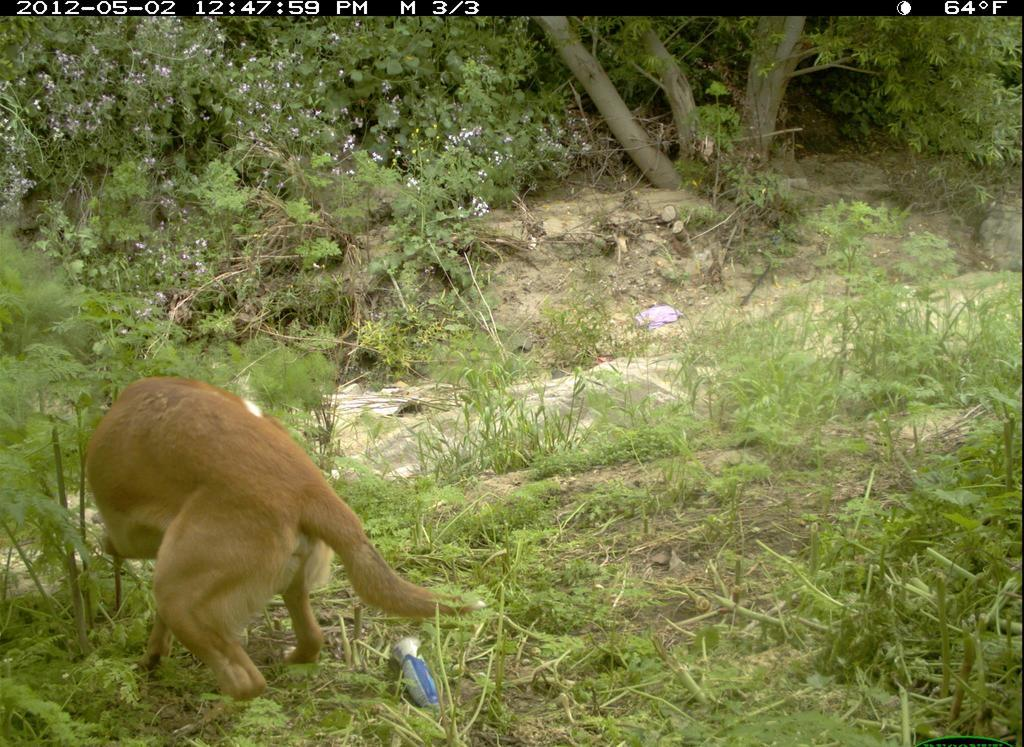dog: (67, 365, 496, 710)
